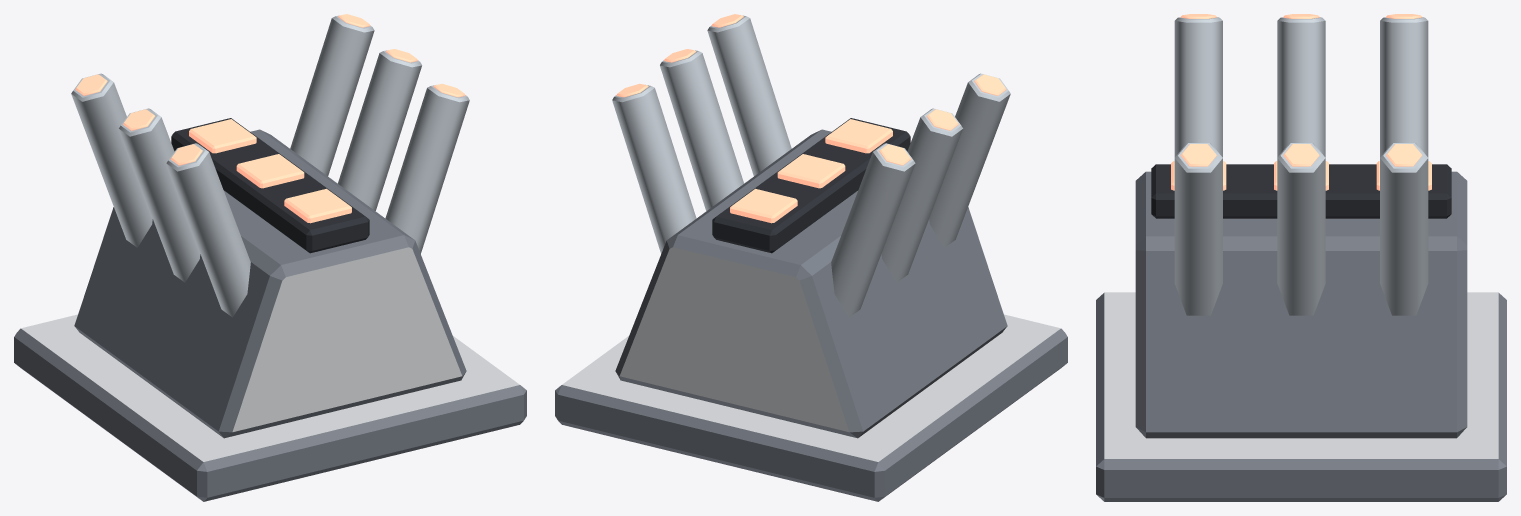
Rendered from R4X_Overdrive_LOD1.fbx.
3 views of the same model, side by side, from view 1: azimuth 30°, elevation 25°; view 2: azimuth 150°, elevation 25°; view 3: azimuth 270°, elevation 25° (orthographic). The views are drawn at different scales.
Parts seen in each view (by area): view 1: R4X_Overdrive_LOD1; view 2: R4X_Overdrive_LOD1; view 3: R4X_Overdrive_LOD1.
Boxes of the visible parts, <box> form: R4X_Overdrive_LOD1: <box>14,14,526,501</box>; R4X_Overdrive_LOD1: <box>555,14,1067,501</box>; R4X_Overdrive_LOD1: <box>1096,14,1506,501</box>.
Size of the model in its own units: 0.52 by 0.4728 by 0.52.
